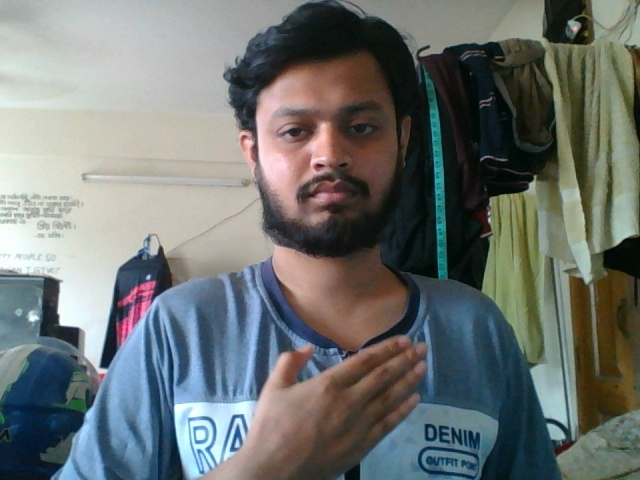ami: (229, 331, 434, 470)
